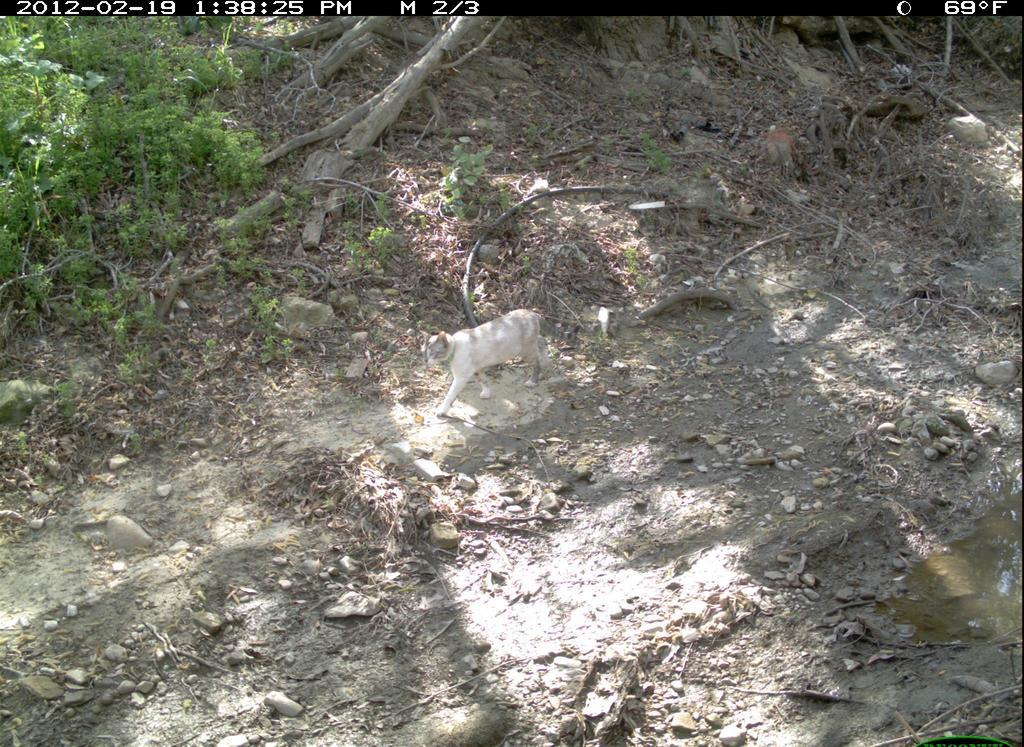cat: (415, 303, 584, 423)
